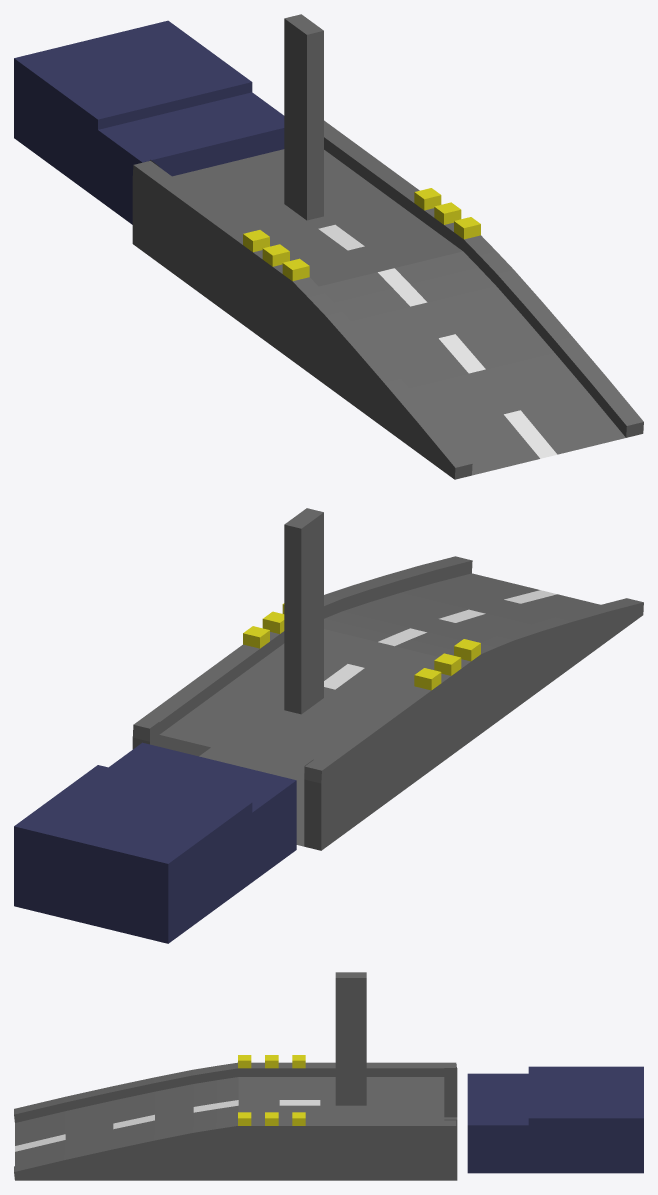
File: map.glb
3 renders of one model, top to bottom at view 1: azimuth 30°, elevation 25°; view 2: azimuth 150°, elevation 25°; view 3: azimuth 270°, elevation 25°, orthographic. The views are drawn at different scales.
Visible parts, largest first — view 1: Plane, Plane.004, Plane.005, Plane.001, Plane.002; view 2: Plane, Plane.004, Plane.005, Plane.002, Plane.001; view 3: Plane, Plane.004, Plane.005, Plane.002, Plane.001.
Boxes of the visible parts, bbox=[...] form: Plane: bbox=[132, 120, 643, 479]; Plane.004: bbox=[14, 20, 284, 224]; Plane.005: bbox=[284, 14, 323, 220]; Plane.001: bbox=[318, 224, 557, 458]; Plane.002: bbox=[243, 188, 480, 281]; Plane: bbox=[132, 556, 643, 850]; Plane.004: bbox=[14, 742, 296, 943]; Plane.005: bbox=[284, 508, 323, 714]; Plane.002: bbox=[243, 603, 480, 690]; Plane.001: bbox=[324, 590, 556, 689]; Plane: bbox=[14, 1062, 457, 1180]; Plane.004: bbox=[467, 1066, 643, 1173]; Plane.005: bbox=[335, 972, 366, 1105]; Plane.002: bbox=[238, 1055, 305, 1125]; Plane.001: bbox=[15, 1100, 320, 1151].
Size of the model in its own units: 10.02 by 12.84 by 42.19.
